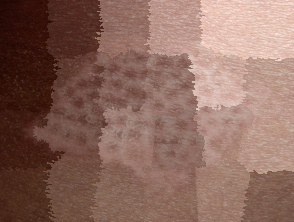vitiligo: (9, 32, 281, 211)
